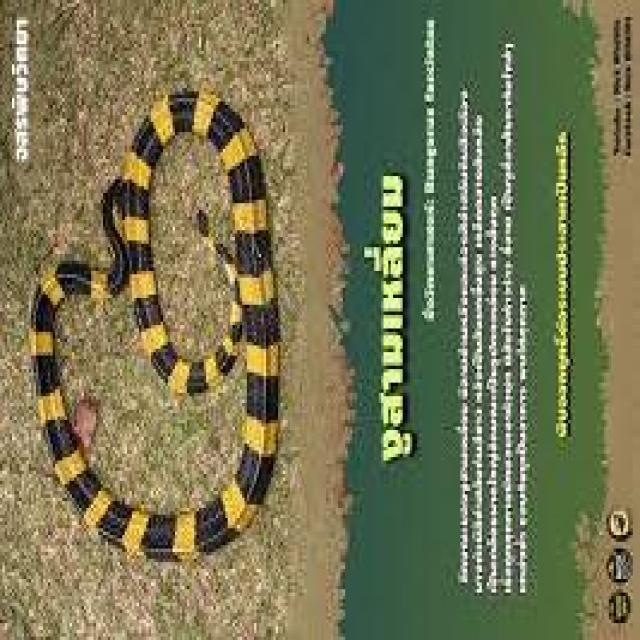Venomous: (226, 153, 290, 374)
